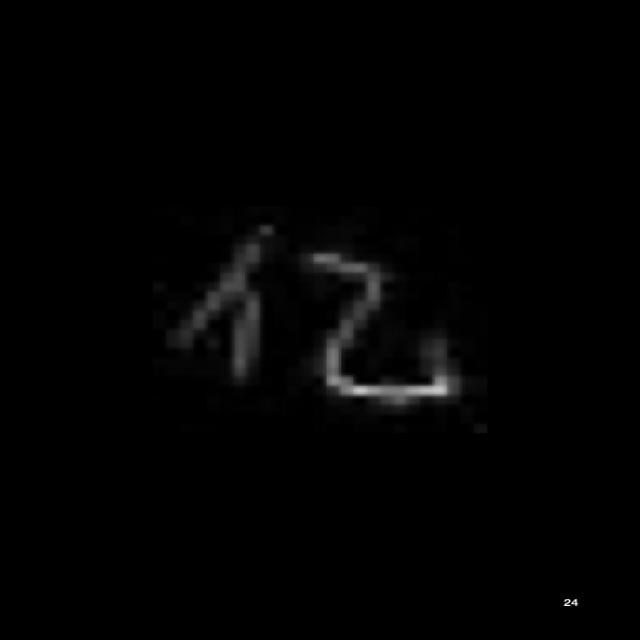100000 -a hundred thousand-: (167, 218, 465, 410)
